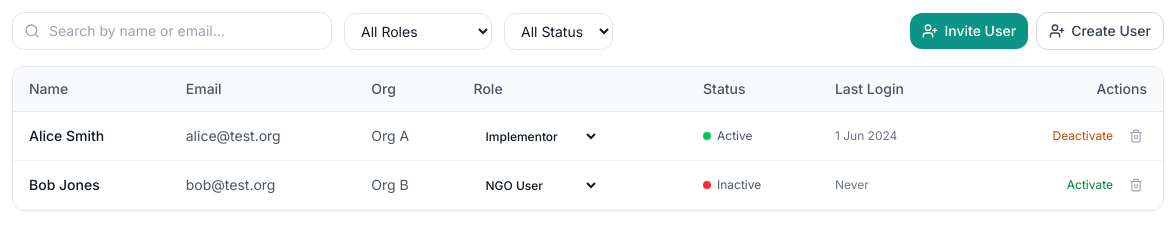
Test case: UserManagement › delete button shows confirmation flow
Expected: the text "Alice Smith" is shown, [29,127,104,144]
Click the button titled "Delete user" in the row of "Alice Smith" at (1136, 136), box [1125,125,1147,147]
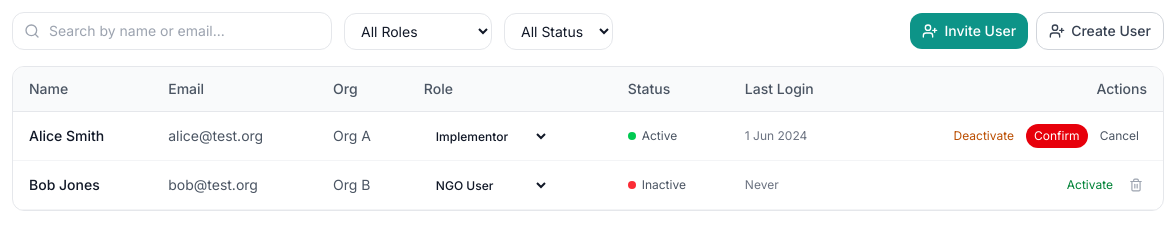
Expected: the button "Confirm" is shown, [1026,124,1088,148]
Expected: the button "Cancel" is shown, [1092,124,1147,148]
